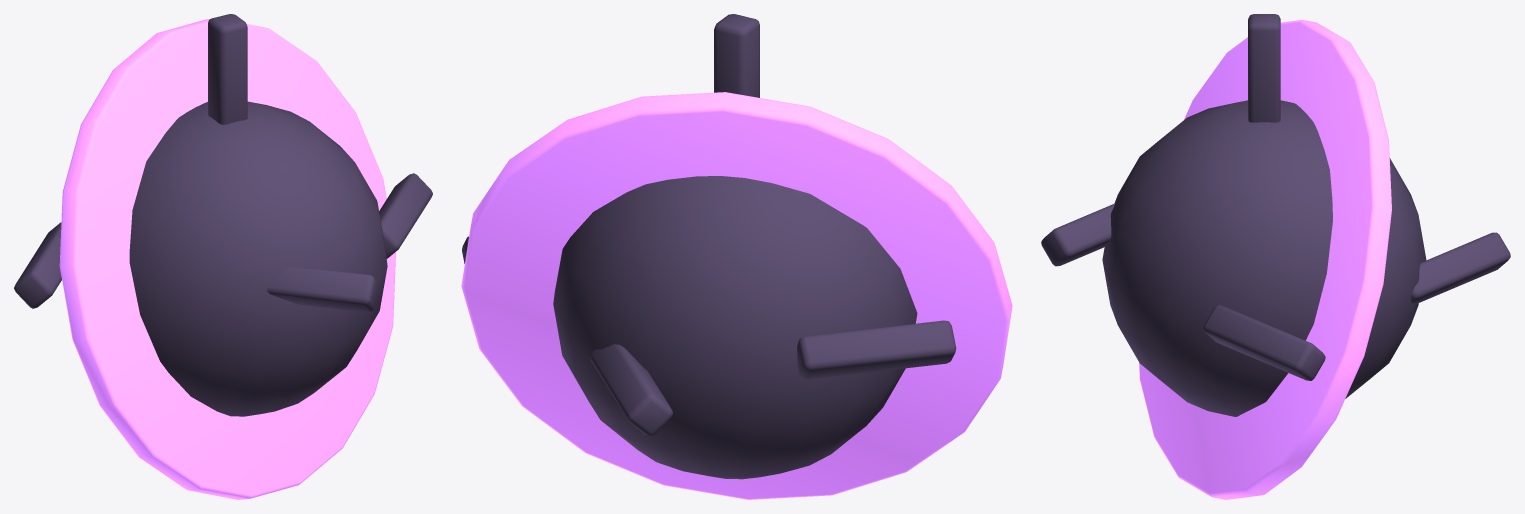
The model's file is Idol_Shadow_Orb.glb.
3 views of the same model, side by side, from view 1: azimuth 30°, elevation 25°; view 2: azimuth 150°, elevation 25°; view 3: azimuth 270°, elevation 25° (orthographic). The views are drawn at different scales.
Visible parts, largest first — view 1: Idol_Shadow_Orb; view 2: Idol_Shadow_Orb; view 3: Idol_Shadow_Orb.
Part boxes in pixels (x1,y1,x2,y2): Idol_Shadow_Orb: [14, 14, 432, 499]; Idol_Shadow_Orb: [461, 14, 1012, 499]; Idol_Shadow_Orb: [1041, 14, 1510, 499].
Size of the model in its own units: 0.8518 by 0.8595 by 0.8118.
